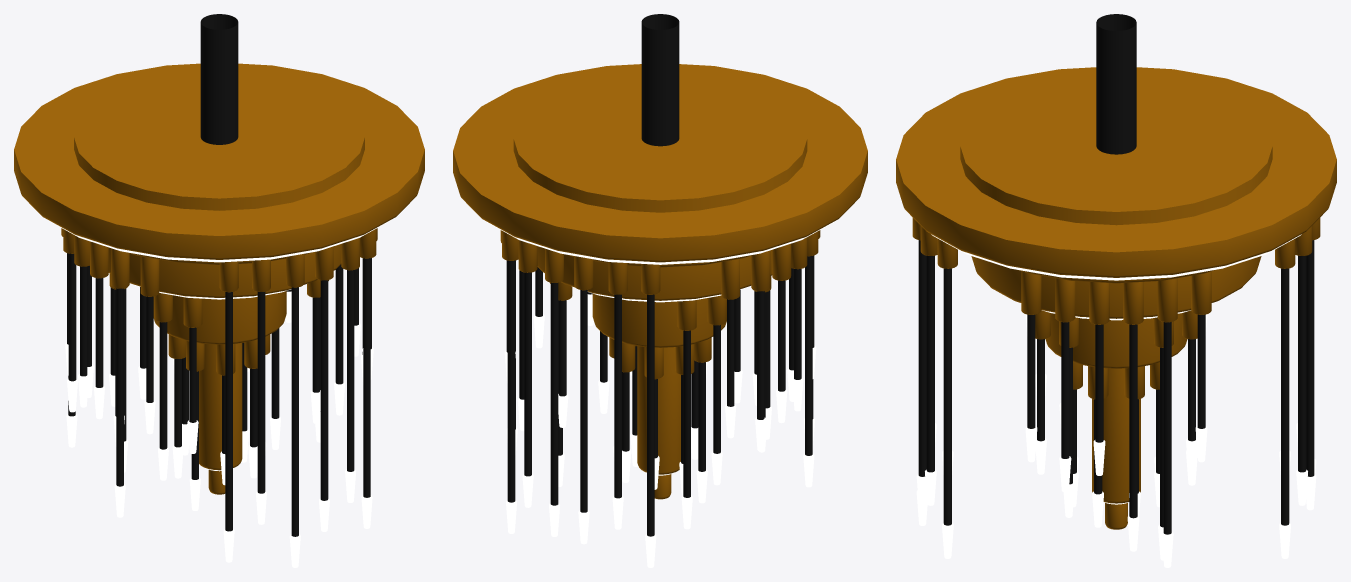
File: Chandelier.fbx
3 renders of one model, left to right at view 1: azimuth 30°, elevation 25°; view 2: azimuth 150°, elevation 25°; view 3: azimuth 270°, elevation 25°, orthographic. The views are drawn at different scales.
Visible parts, largest first — view 1: Chandelier; view 2: Chandelier; view 3: Chandelier.
Part boxes in pixels (x1,y1,x2,y2): Chandelier: (14, 14, 424, 567); Chandelier: (453, 14, 867, 567); Chandelier: (896, 14, 1336, 567).
Bounding box in the file's own units: 200 × 255 × 200.
